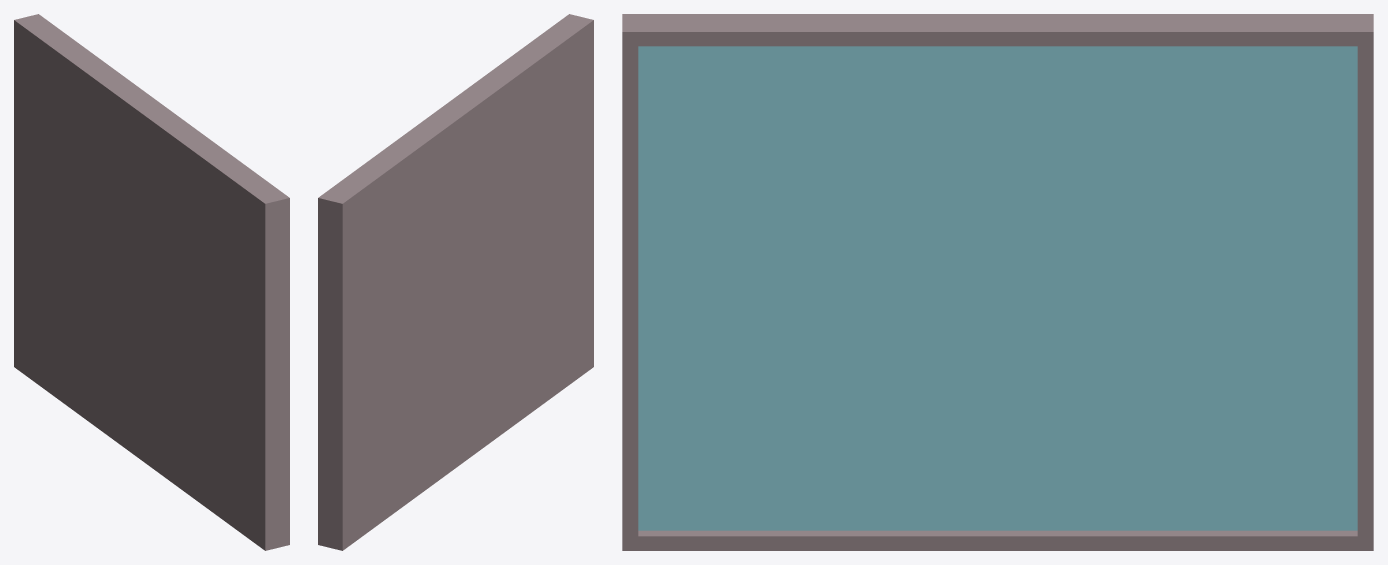
The model's file is Mirror.fbx.
The picture shows the model from 3 angles, left to right: view 1: azimuth 30°, elevation 25°; view 2: azimuth 150°, elevation 25°; view 3: azimuth 270°, elevation 25°; orthographic projection. The views are drawn at different scales.
Parts seen in each view (by area): view 1: Mirror; view 2: Mirror; view 3: Cube.003, Mirror.
Part boxes in pixels (left/top/right/bottom): Mirror: left=14, top=14, right=289, bottom=550; Mirror: left=318, top=14, right=593, bottom=550; Cube.003: left=638, top=46, right=1357, bottom=530; Mirror: left=622, top=14, right=1373, bottom=550.
Bounding box in the file's own units: 17.44 × 235 × 309.
